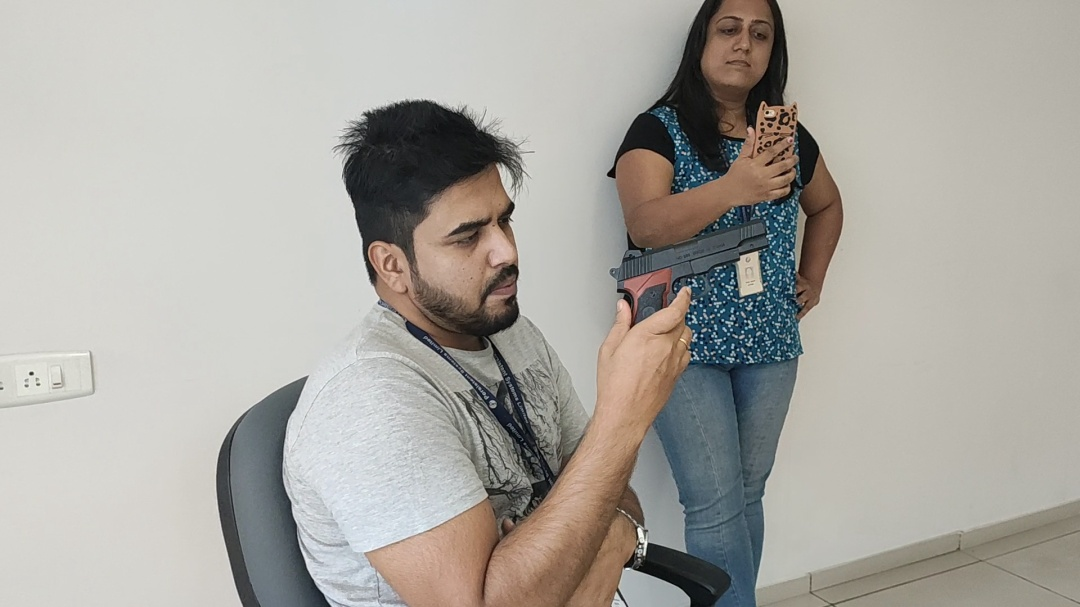gun: (610, 221, 770, 322)
